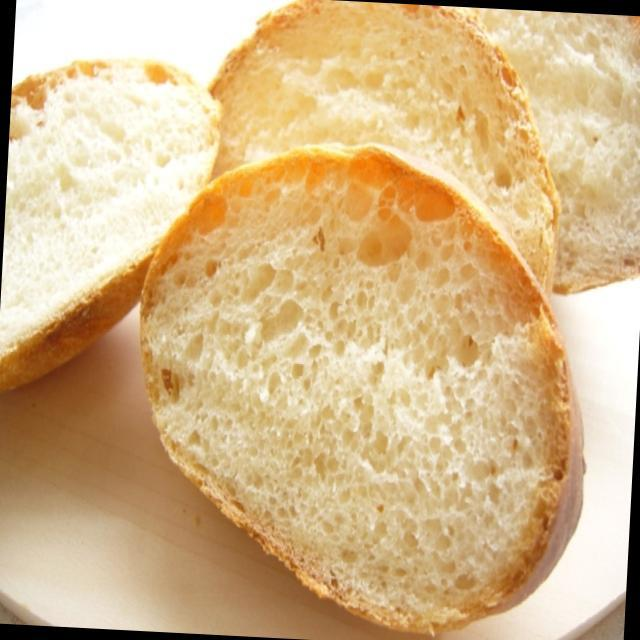Bread: (129, 139, 600, 640)
